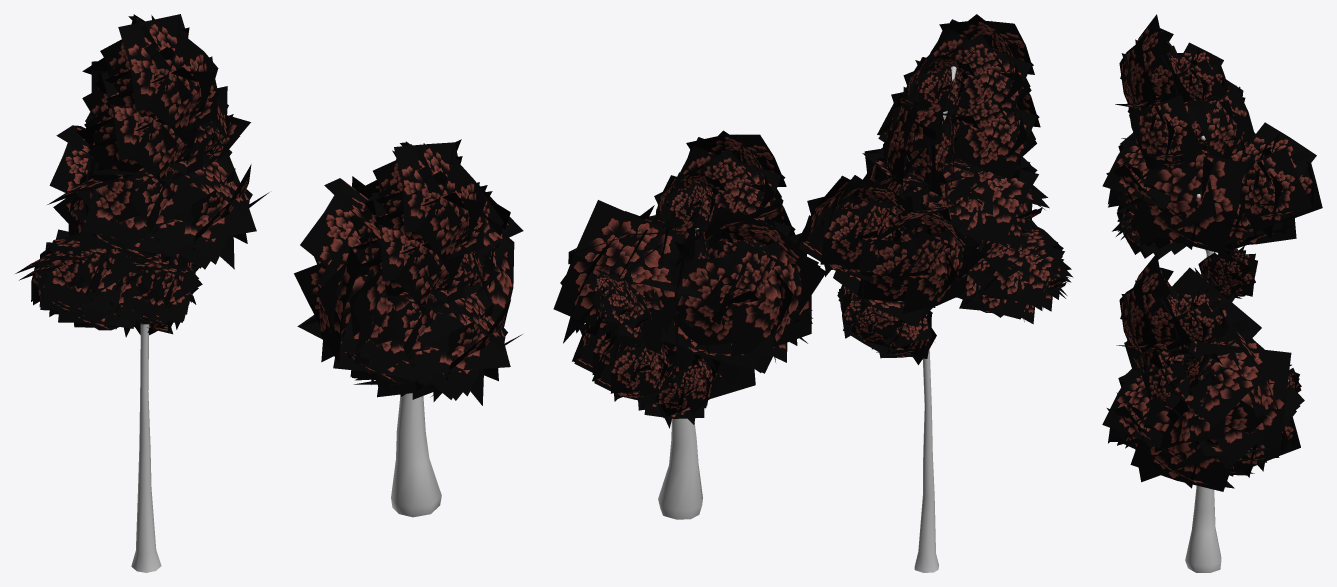
The model's file is 0_2Arboles_Antoni.fbx.
3 renders of one model, left to right at view 1: azimuth 30°, elevation 25°; view 2: azimuth 150°, elevation 25°; view 3: azimuth 270°, elevation 25°, orthographic. The views are drawn at different scales.
Parts seen in each view (by area): view 1: 1_Verde_Gordo_Antoni.002; view 2: 1_Verde_Gordo_Antoni.002; view 3: 1_Verde_Gordo_Antoni.002.
Part boxes in pixels (x1,y1,x2,y2): 1_Verde_Gordo_Antoni.002: [15, 14, 523, 572]; 1_Verde_Gordo_Antoni.002: [553, 14, 1073, 572]; 1_Verde_Gordo_Antoni.002: [1102, 14, 1322, 572].
Size of the model in its own units: 3340 by 3641 by 1675.
